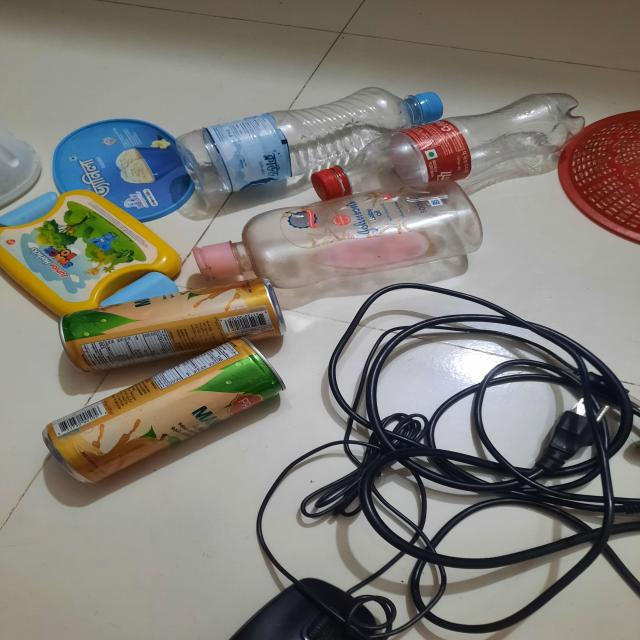Cable: (296, 294, 633, 640)
Plastics: (0, 85, 640, 275)
can: (17, 279, 310, 478)
